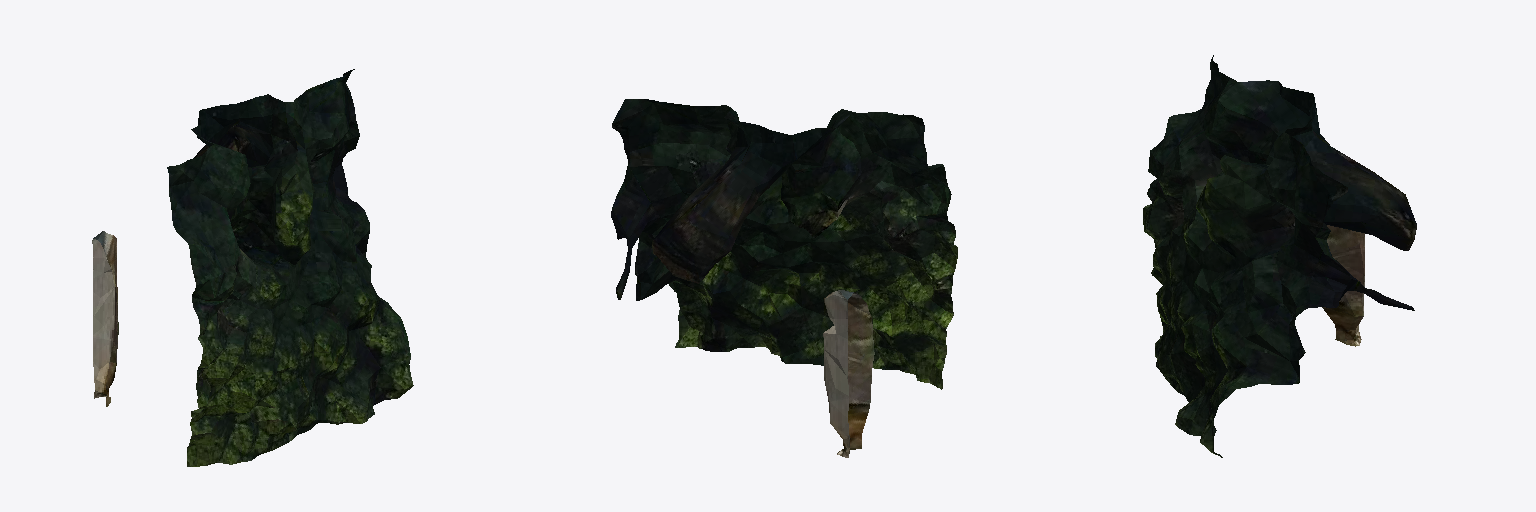
3 renders of one model, left to right at view 1: azimuth 30°, elevation 25°; view 2: azimuth 150°, elevation 25°; view 3: azimuth 270°, elevation 25°, orthographic.
Parts seen in each view (by area): view 1: obj_0; view 2: obj_0; view 3: obj_0.
Part boxes in pixels (x1,y1,x2,y2): obj_0: (92, 69, 413, 466); obj_0: (611, 99, 957, 457); obj_0: (1143, 55, 1416, 457).
Bounding box in the file's own units: 20.08 × 22.53 × 19.62.
1 materials, 1 textured.